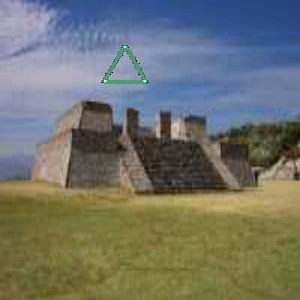triangle: (98, 41, 150, 87)
